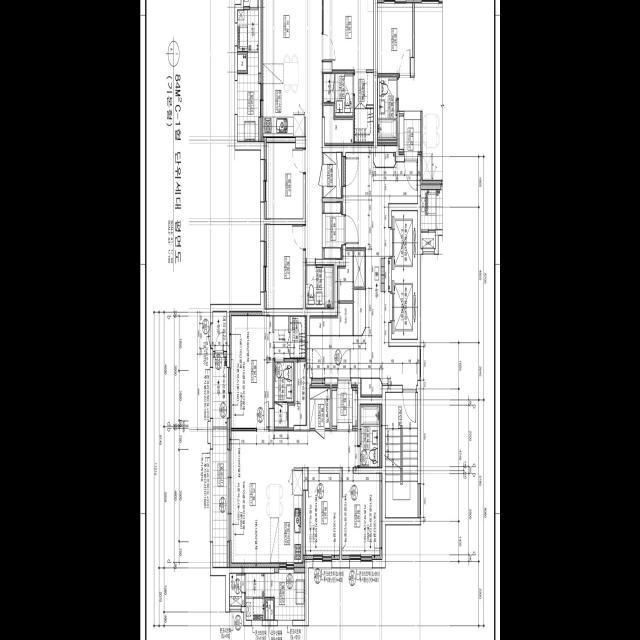background: (140, 0, 500, 640)
space_balconi: (237, 10, 258, 141), (213, 357, 226, 567), (246, 573, 304, 620)
space_bedroom: (229, 312, 272, 428), (323, 0, 373, 70), (342, 474, 382, 559), (264, 225, 303, 309), (264, 143, 303, 219), (305, 473, 339, 559)
space_dressroom: (272, 316, 306, 358), (354, 73, 373, 145)
space_elevator: (391, 274, 417, 339), (391, 211, 417, 275)
space_elevator_hall: (310, 153, 419, 390)
space_front: (331, 381, 357, 431), (322, 202, 344, 259)
space_kitchen: (269, 471, 305, 568), (261, 64, 305, 141)
space_living_room: (229, 431, 357, 567), (261, 0, 322, 259)
space_other: (310, 304, 352, 335), (323, 106, 353, 145), (289, 362, 306, 428), (310, 385, 330, 428), (323, 153, 342, 198), (337, 251, 352, 301), (213, 312, 226, 351), (354, 290, 365, 335), (360, 379, 382, 397), (354, 251, 364, 287), (374, 153, 395, 167), (237, 55, 246, 71), (266, 600, 273, 620)
space_outdoor_room: (229, 574, 244, 606), (243, 0, 258, 7)
space_staircase: (385, 393, 417, 518)
space_toilet: (323, 73, 353, 117), (274, 362, 293, 428), (305, 265, 334, 308), (360, 405, 379, 468)
